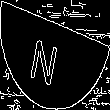N_N: (38, 24, 72, 86)
